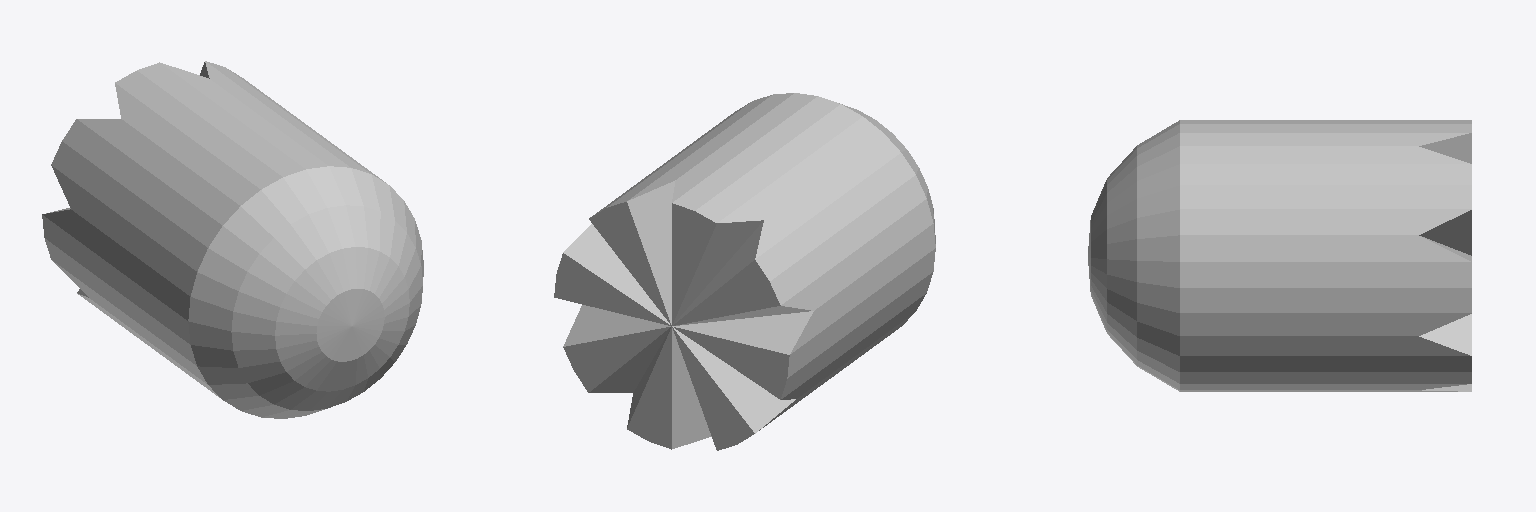
File: ghost.obj
3 views of the same model, side by side, from view 1: azimuth 30°, elevation 25°; view 2: azimuth 150°, elevation 25°; view 3: azimuth 270°, elevation 25° (orthographic).
Visible parts, largest first — view 1: Cylinder_Cylinder.001; view 2: Cylinder_Cylinder.001; view 3: Cylinder_Cylinder.001.
Boxes of the visible parts, x1,y1,x2,y2 form: Cylinder_Cylinder.001: [42, 61, 423, 418]; Cylinder_Cylinder.001: [554, 93, 935, 450]; Cylinder_Cylinder.001: [1088, 120, 1471, 391].
Bounding box in the file's own units: 2 × 2 × 2.83.